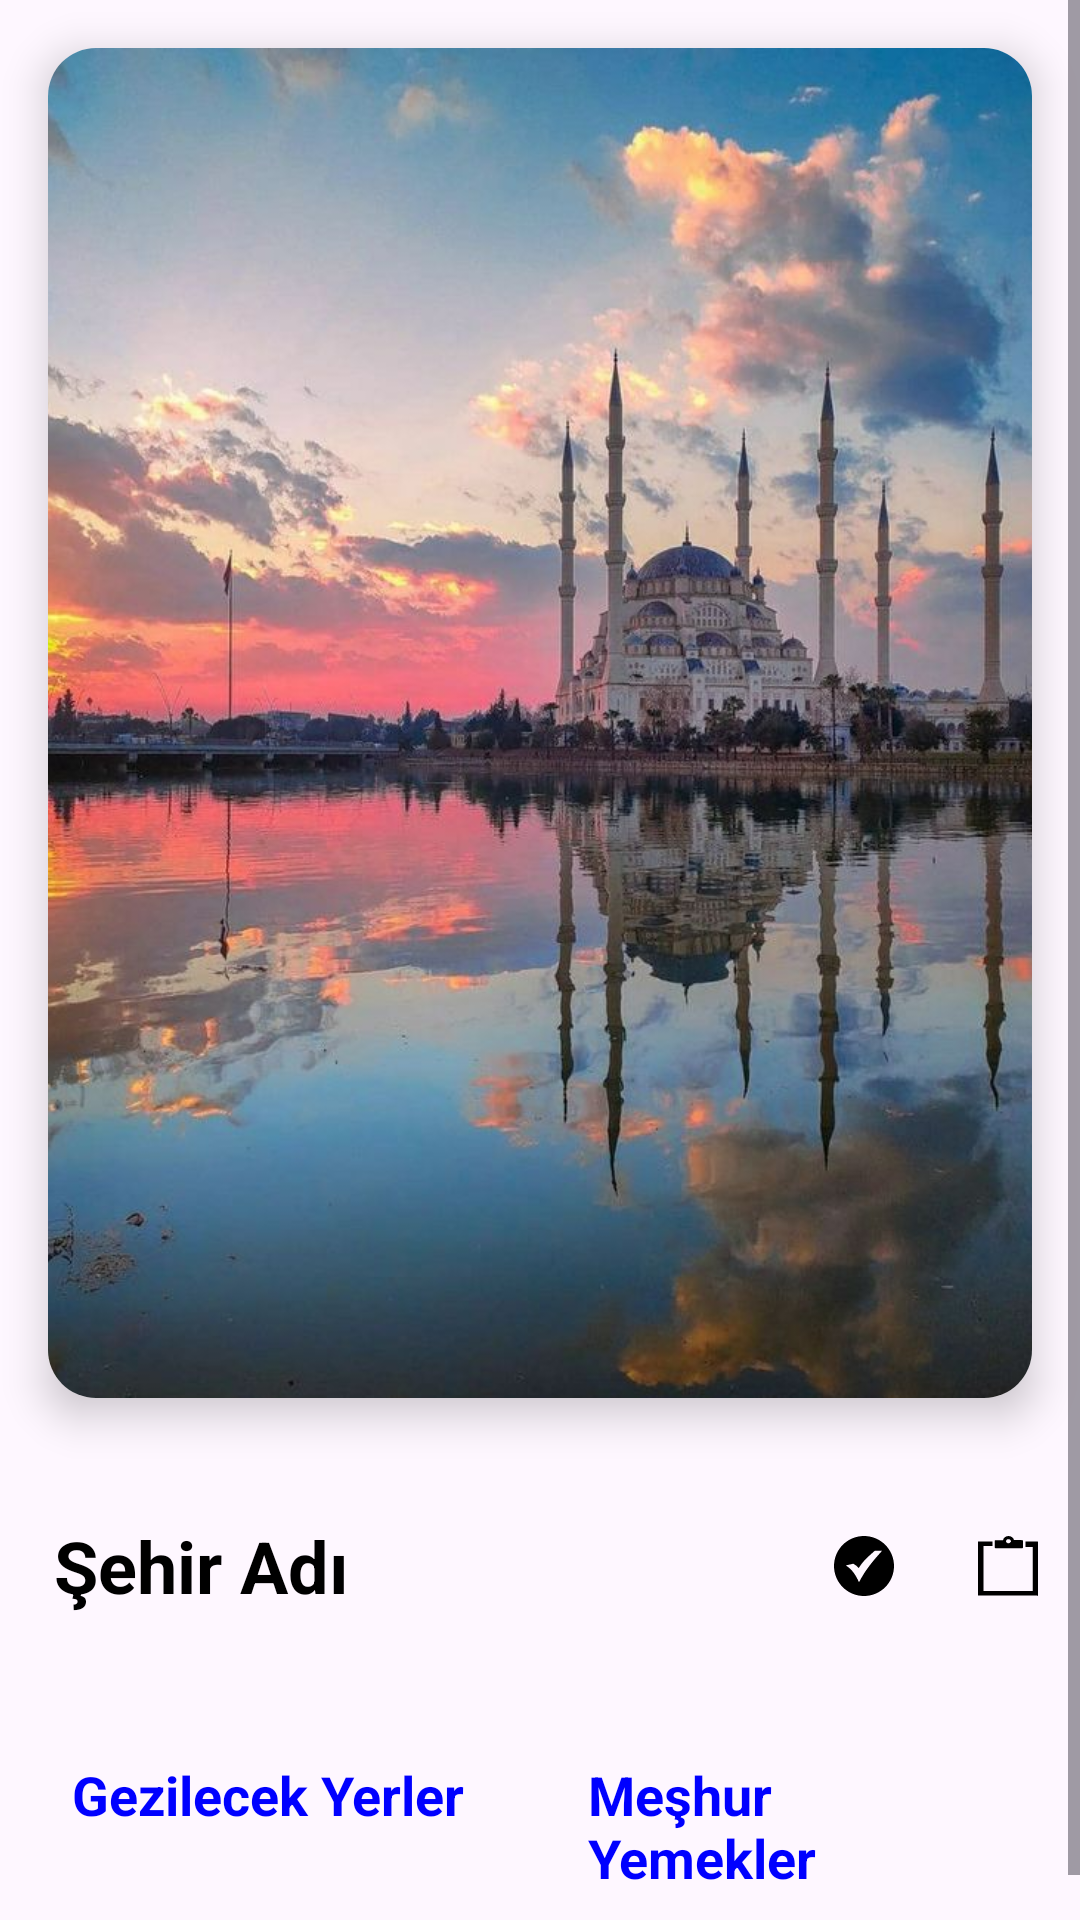

Icon click points for this 1080×1920 phone screenshot, format point (x, y):
check: point (864, 1566)
